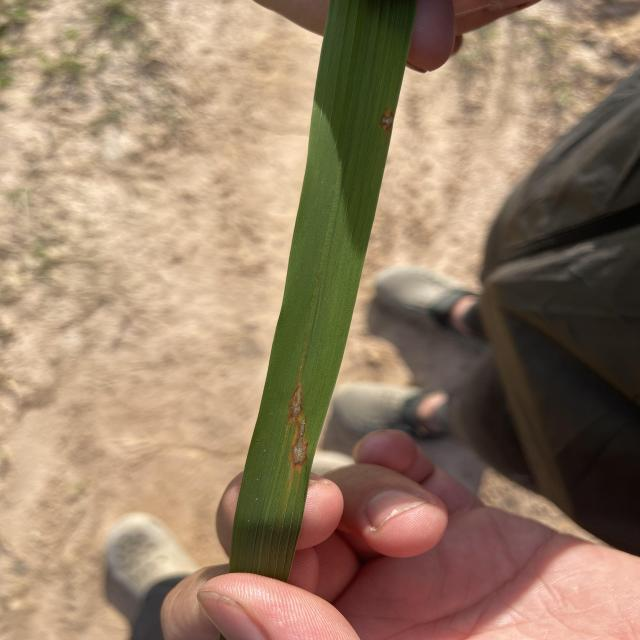Dao on: (292, 420, 307, 465), (289, 384, 301, 421), (380, 110, 394, 132)
